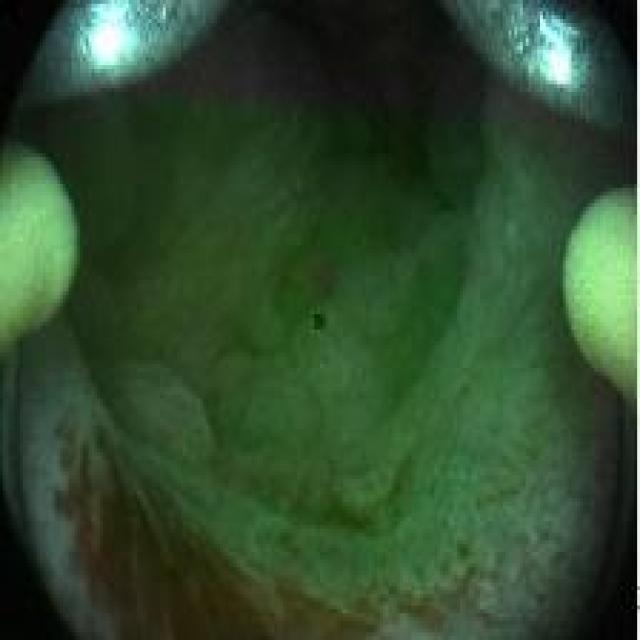color misalignment: (311, 313, 326, 330)
contrast: (221, 3, 453, 108)
instrument: (438, 3, 637, 145), (11, 0, 220, 118), (1, 138, 81, 360), (564, 182, 637, 415)
specularity: (536, 10, 577, 89), (86, 4, 137, 67)
